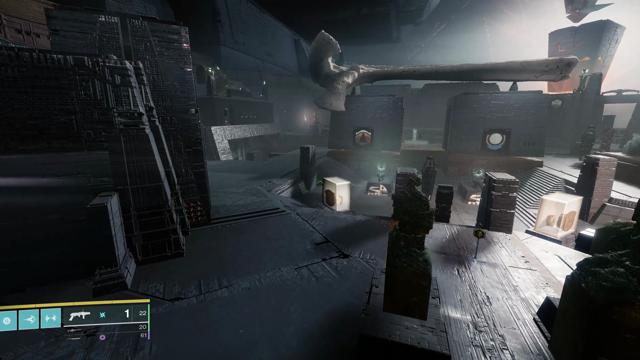commune: (551, 99, 562, 109)
pyramid: (356, 130, 371, 145)
traveler: (486, 132, 506, 151)
